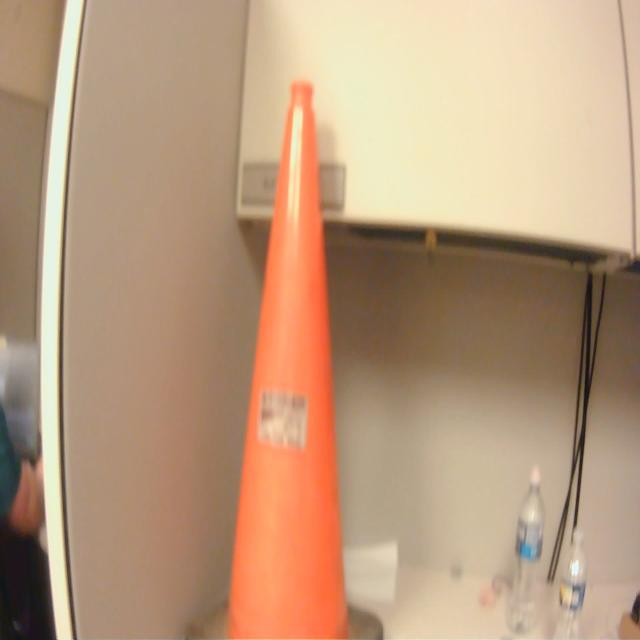traffic cone: (183, 75, 390, 640)
